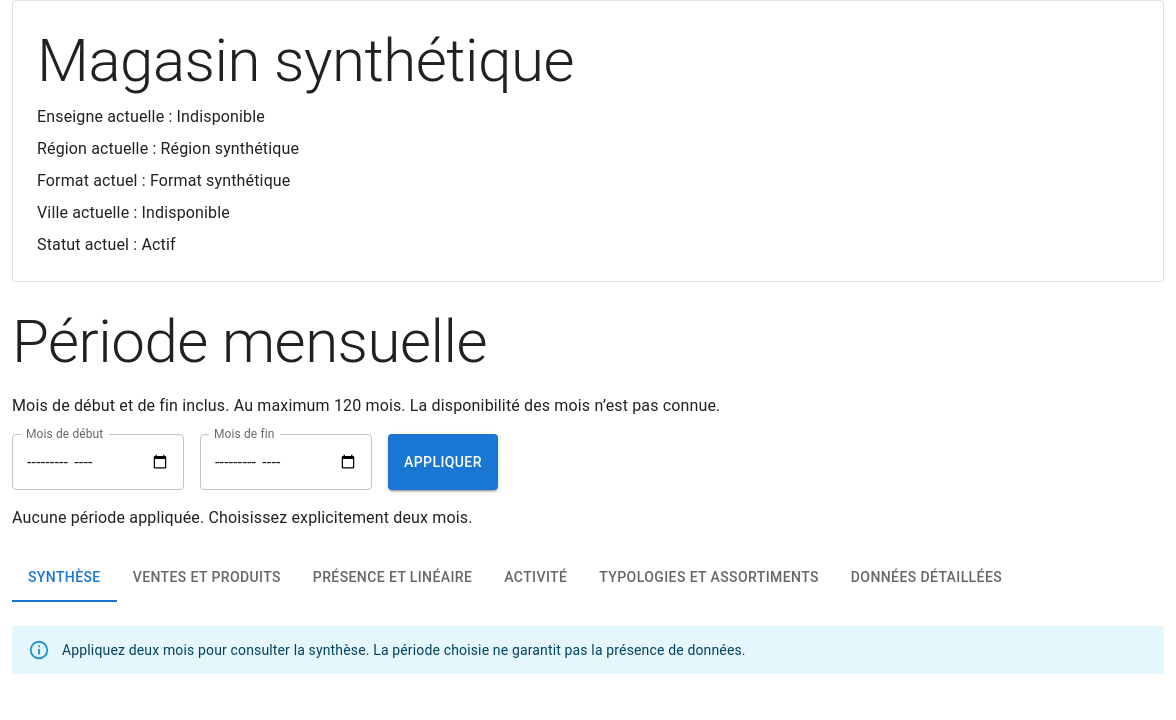
Scenario: reads the full reference only on explicit expansion and renders every published field
Click the tab "Données détaillées" at (926, 578), box [835, 554, 1018, 602]
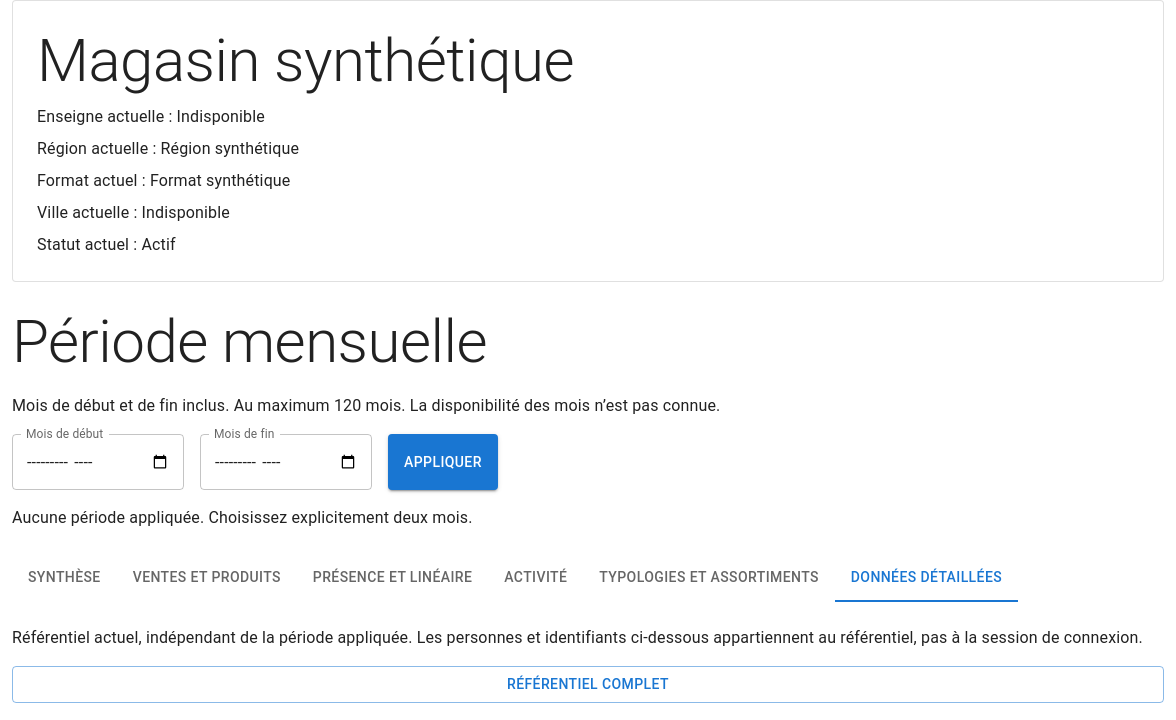
Click the button "Référentiel complet" at (588, 684), box [12, 666, 1164, 702]
(page scrolled)
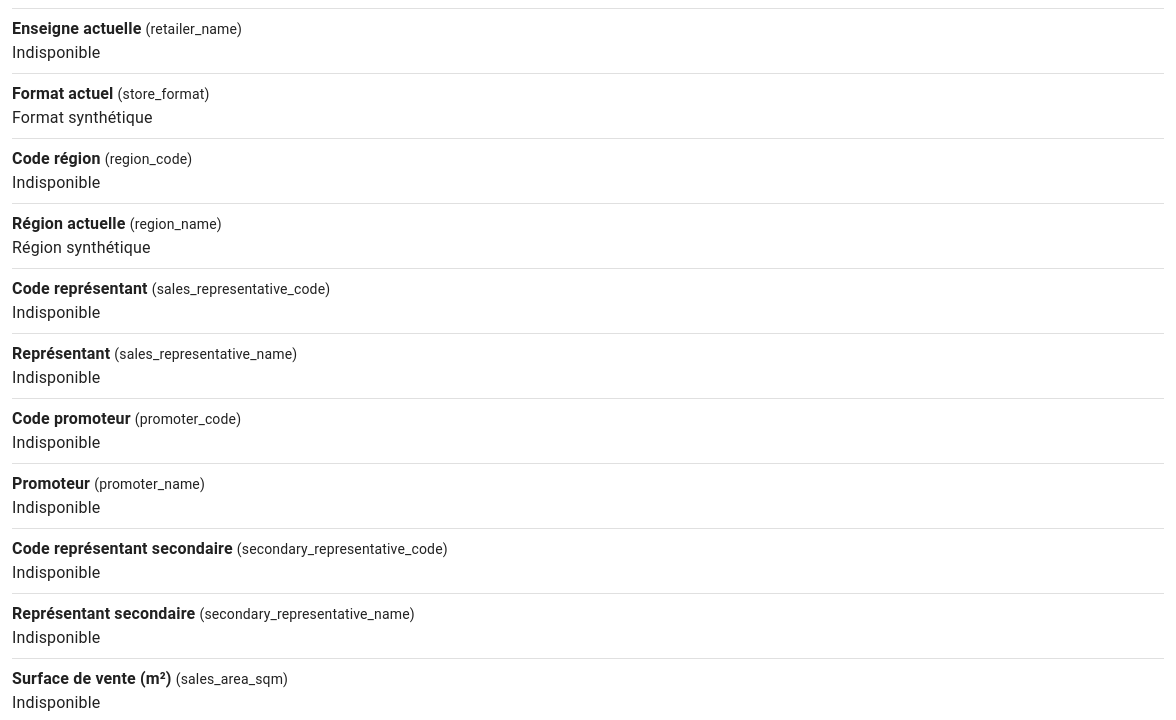
Now the element showing "Indisponible" below "retailer_name" is shown, box [12, 42, 100, 62]
Now the element showing "Format synthétique" is shown, box [12, 108, 153, 126]
Now the element showing "Indisponible" below "Code région" is shown, box [12, 172, 100, 192]
